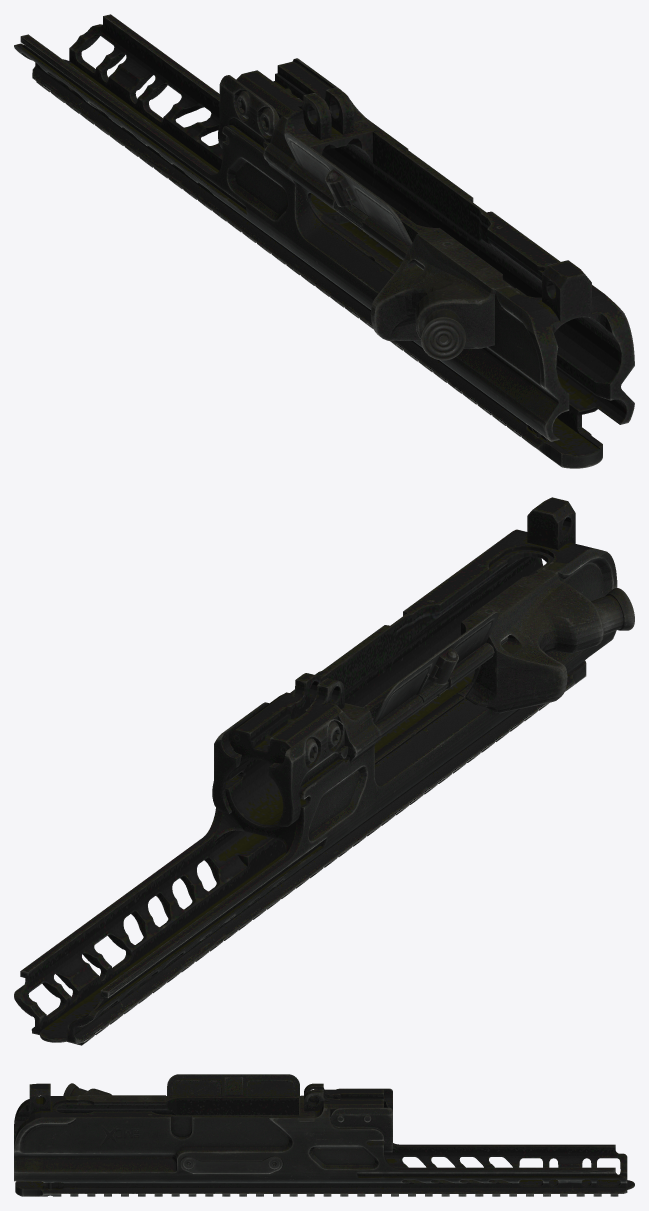
The picture shows the model from 3 angles, top to bottom: view 1: azimuth 30°, elevation 25°; view 2: azimuth 150°, elevation 25°; view 3: azimuth 270°, elevation 25°; orthographic projection. The views are drawn at different scales.
Parts seen in each view (by area): view 1: TW_5fbcc3e4d6fa9c00c571bb58_PZ_Import; view 2: TW_5fbcc3e4d6fa9c00c571bb58_PZ_Import; view 3: TW_5fbcc3e4d6fa9c00c571bb58_PZ_Import.
Boxes of the visible parts, x1,y1,x2,y2 form: TW_5fbcc3e4d6fa9c00c571bb58_PZ_Import: [14, 14, 634, 468]; TW_5fbcc3e4d6fa9c00c571bb58_PZ_Import: [14, 497, 634, 1045]; TW_5fbcc3e4d6fa9c00c571bb58_PZ_Import: [14, 1074, 634, 1196].
Size of the model in its own units: 0.0366 by 0.2125 by 0.0394.
Materials: 1 (1 with a texture image).
